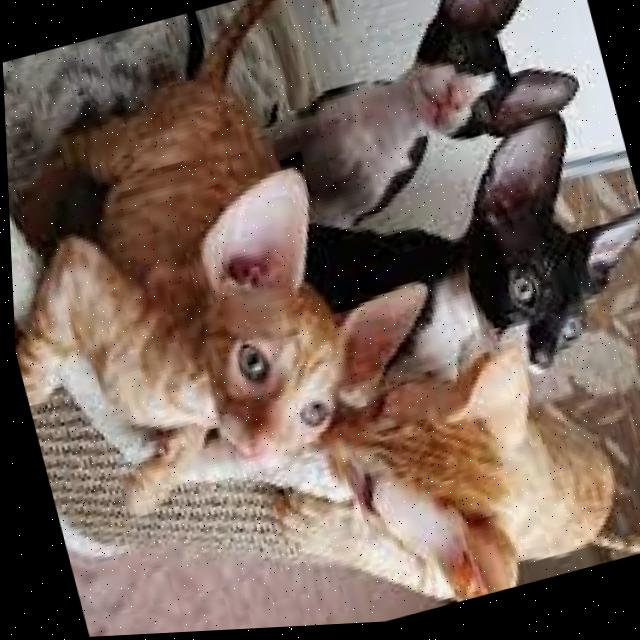Cornish Rex: (0, 0, 469, 544), (253, 303, 640, 630), (285, 100, 640, 438), (232, 0, 604, 249)
